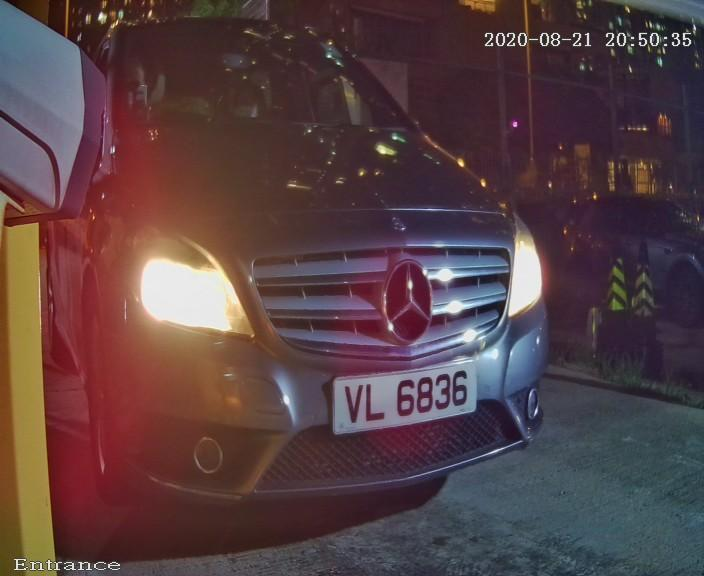Car: (4, 11, 620, 553)
License Plate: (310, 348, 488, 452)
